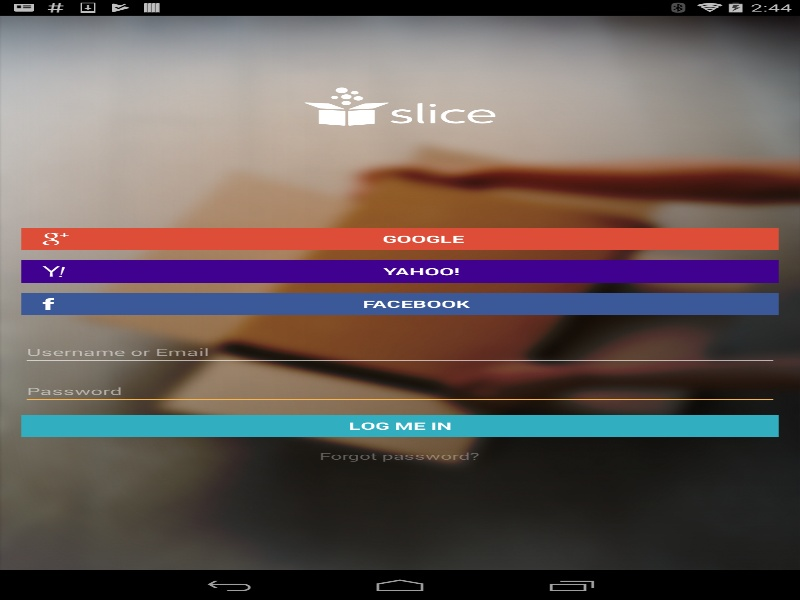Button: (21, 227, 778, 250), (21, 292, 778, 315), (21, 414, 778, 437), (21, 260, 778, 282)
Input: (21, 339, 778, 365), (21, 378, 778, 404)
